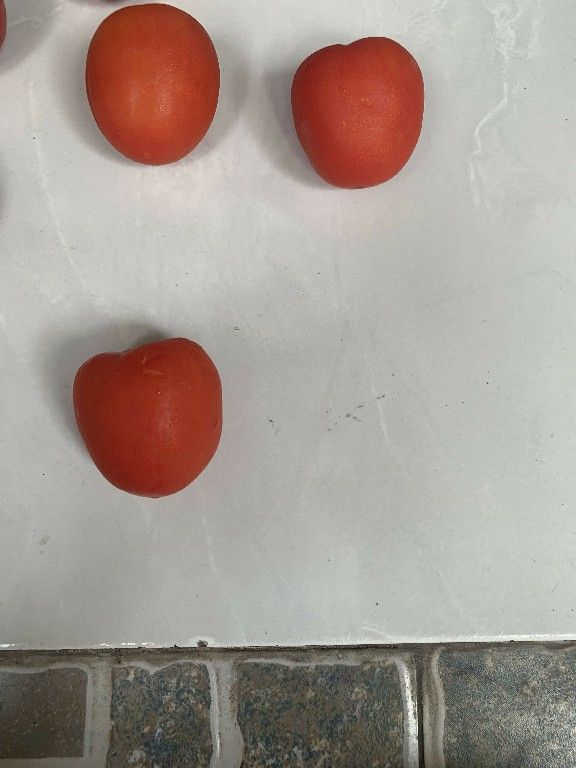OK: (57, 332, 227, 511), (280, 28, 440, 192), (73, 1, 229, 164)
